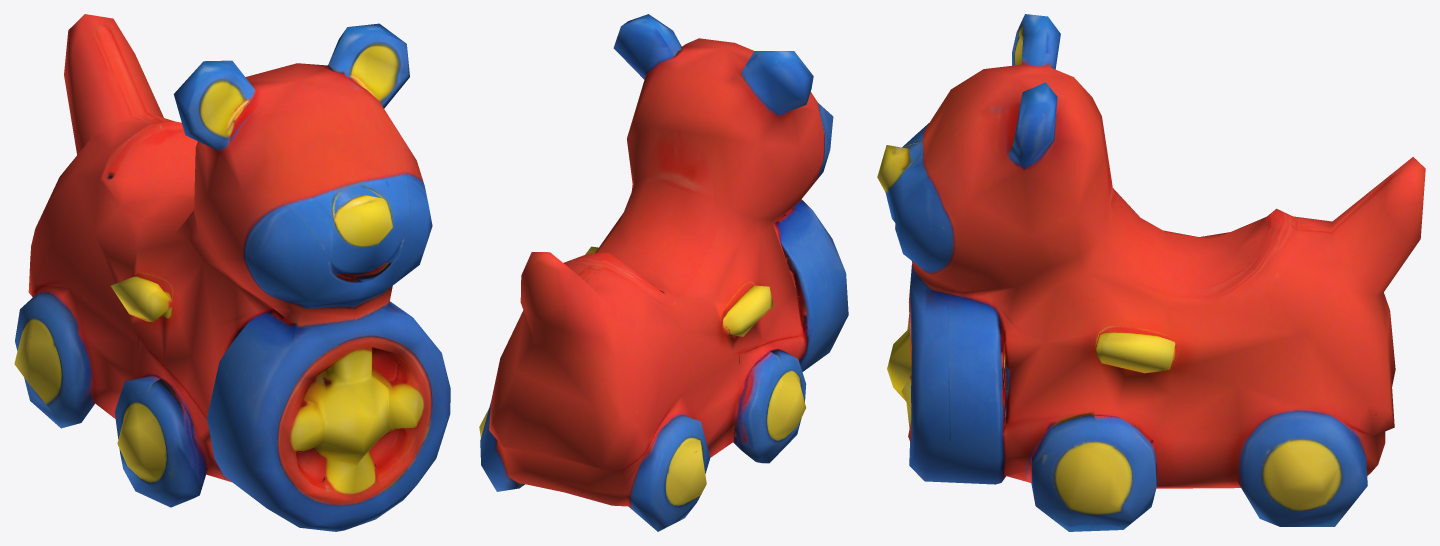
The picture shows the model from 3 angles, left to right: view 1: azimuth 30°, elevation 25°; view 2: azimuth 150°, elevation 25°; view 3: azimuth 270°, elevation 25°; orthographic projection. The views are drawn at different scales.
Visible parts, largest first — view 1: Mesh1.0; view 2: Mesh1.0; view 3: Mesh1.0.
Part boxes in pixels (x1=…): Mesh1.0: x1=14, y1=14, x2=450, y2=531; Mesh1.0: x1=479, y1=14, x2=848, y2=531; Mesh1.0: x1=877, y1=14, x2=1425, y2=531.
Bounding box in the file's own units: 107 × 176 × 201.
Materials: 1 (1 with a texture image).
